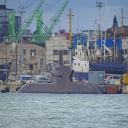submarine: (12, 50, 103, 95)
